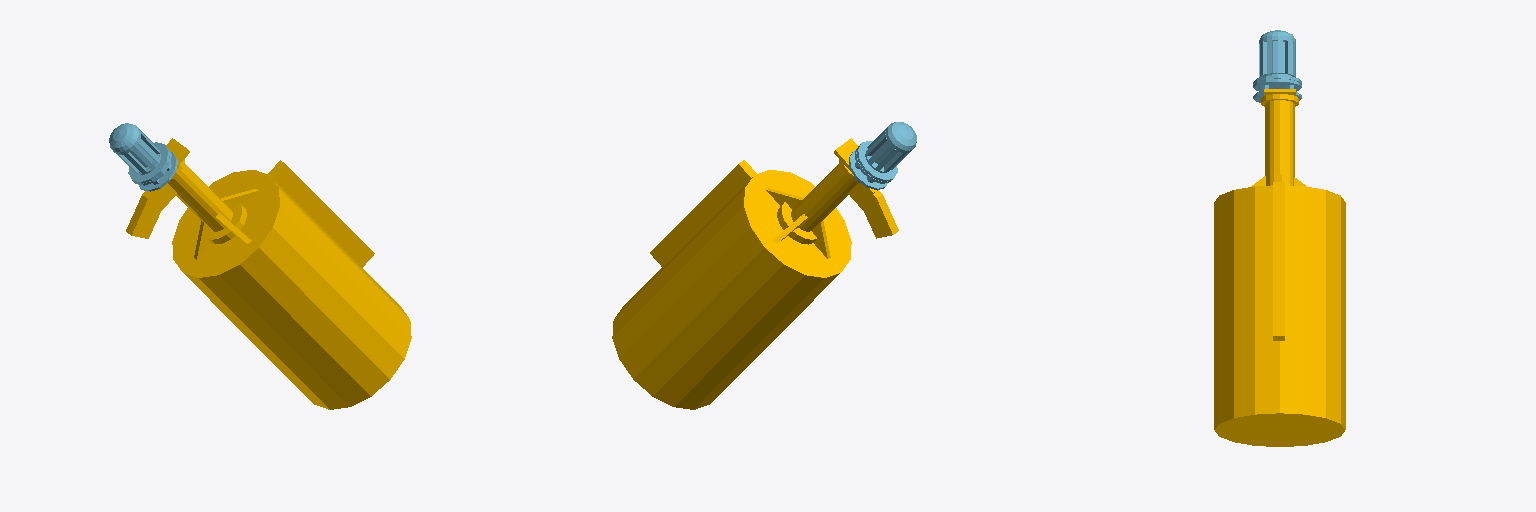
The model's file is drum_grille.obj.
3 renders of one model, left to right at view 1: azimuth 30°, elevation 25°; view 2: azimuth 150°, elevation 25°; view 3: azimuth 270°, elevation 25°, orthographic.
Visible parts, largest first — view 1: __, ___, __.2, ___.1, __.1, __.4, __.6; view 2: __, ___, __.2, ___.1, __.1, __.4; view 3: __, __.2, ___, __.4.
Boxes of the visible parts, x1=… form: __: x1=109, y1=123, x2=411, y2=409; ___: x1=268, y1=160, x2=374, y2=267; __.2: x1=167, y1=163, x2=232, y2=231; ___.1: x1=126, y1=183, x2=176, y2=238; __.1: x1=138, y1=152, x2=246, y2=244; __.4: x1=117, y1=129, x2=159, y2=173; __.6: x1=128, y1=142, x2=169, y2=183; __: x1=612, y1=122, x2=916, y2=409; ___: x1=650, y1=160, x2=756, y2=267; __.2: x1=791, y1=163, x2=857, y2=231; ___.1: x1=848, y1=183, x2=898, y2=238; __.1: x1=777, y1=150, x2=887, y2=244; __.4: x1=866, y1=129, x2=909, y2=171; __: x1=1214, y1=30, x2=1345, y2=446; __.2: x1=1261, y1=85, x2=1294, y2=185; ___: x1=1273, y1=182, x2=1284, y2=340; __.4: x1=1259, y1=39, x2=1295, y2=77.
Size of the model in its own units: 632 by 677 by 247.